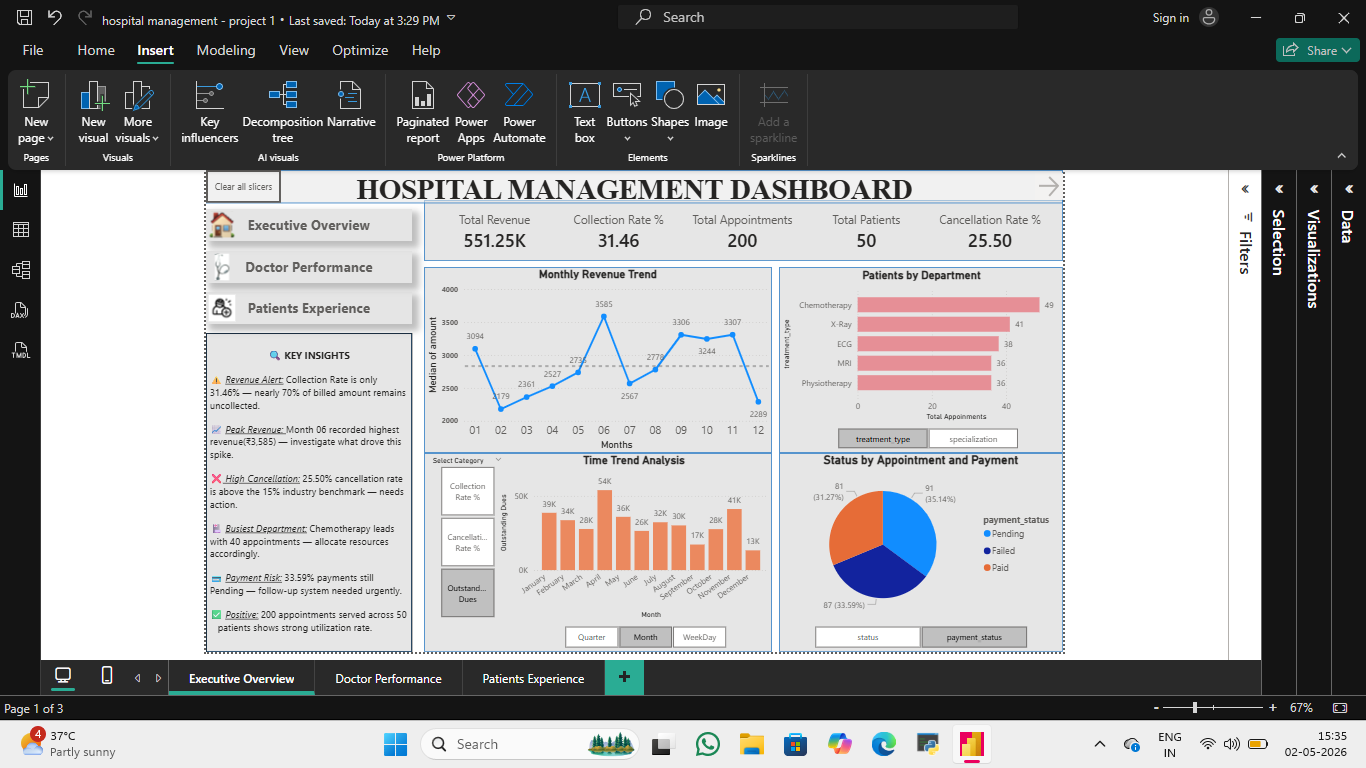

This screenshot's page, from the dashboard's own definition file:
{"tool":"powerbi","page":{"name":"Executive Overview","canvas":[1280,720],"ordinal":0},"visuals":[{"type":"group","id":"g1","title":"Background","box":[0,44.8,1280.2,675.2],"z":0},{"type":"shape","box":[325.6,44.8,954.5,91.1],"z":0,"group":"g1"},{"type":"shape","box":[0,0,1280,49.8],"z":500},{"type":"textbox","box":[0,0,1280,58.8],"z":1000},{"type":"shape","box":[325.6,144.9,519.8,277.8],"z":1000,"group":"g1"},{"type":"actionButton","box":[0,58.3,307.7,47.8],"z":2000},{"type":"shape","box":[855.9,144.9,424.2,277.8],"z":2000,"group":"g1"},{"type":"cardVisual","fields":{"Data":["_Measure.Total Revenue","_Measure.Collection Rate %","_Measure.Total Appointments","_Measure.Total Patients","_Measure.Cancellation Rate %"]},"box":[325.6,46.3,954.4,89.1],"z":3000},{"type":"shape","box":[325.6,422.7,519.8,297.3],"z":3000,"group":"g1"},{"type":"lineChart","title":"Monthly Revenue Trend","fields":{"Y":["Median(billing.amount)"],"Category":["DateTable.Months"]},"box":[325.6,144.9,519.8,277.8],"z":4000},{"type":"shape","box":[855.9,422.7,424.2,297.3],"z":4000,"group":"g1"},{"type":"shape","box":[0,243.5,307.7,476.5],"z":5000,"group":"g1"},{"type":"clusteredColumnChart","title":"Time Trend Analysis","fields":{"Y":["_Measure.Cancellation Rate %"],"Category":["DateTable.Quarter"]},"box":[435.2,423.2,409.5,251.9],"z":5000},{"type":"slicer","fields":{"Values":["Select Calender.Select Calender"]},"box":[510.9,675.2,289.8,44.8],"z":6000},{"type":"slicer","fields":{"Values":["Select Category 2.Select Category"]},"box":[325.6,423.2,128.5,251.9],"z":7000},{"type":"pieChart","title":"Status by Appointment and Payment","fields":{"Category":["appointments.status"],"Y":["_Measure.Total Appointments"]},"box":[855.9,422.7,424.2,252.4],"z":8000},{"type":"slicer","title":"Payment Status","fields":{"Values":["Select Status.Select Status"]},"box":[884.3,675.2,366,44.8],"z":9000},{"type":"slicer","fields":{"Values":["Select Type.Select Type"]},"box":[918.7,379.4,318.2,43.3],"z":10000},{"type":"clusteredBarChart","title":"Patients by Department","fields":{"Category":["treatments.treatment_type"],"Y":["CountNonNull(treatments.appointment_id)"]},"box":[856.8,145.6,423.2,233],"z":11000},{"type":"actionButton","box":[0,121,307.7,47.8],"z":12000},{"type":"actionButton","box":[0,182.2,307.7,47.8],"z":13000},{"type":"actionButton","box":[0,0,112,49.3],"z":14000},{"type":"actionButton","box":[1238.3,4.5,41.8,40.3],"z":15000},{"type":"textbox","box":[0,243.5,307.7,476.5],"z":16000}]}

Visuals, with their boxes on the page's 1280x720 design canvas (x1, y1, x2, y2). These are canvas units, not pixel positions in the 1366x768 screenshot, which may show the page scaled, cropped or inside an application window:
"Background" group: 0, 45, 1280, 720
shape: 326, 45, 1280, 136
shape: 0, 0, 1280, 50
textbox: 0, 0, 1280, 59
shape: 326, 145, 845, 423
actionButton: 0, 58, 308, 106
shape: 856, 145, 1280, 423
cardVisual - _Measure.Total Revenue x _Measure.Collection Rate %: 326, 46, 1280, 135
shape: 326, 423, 845, 720
"Monthly Revenue Trend" lineChart: 326, 145, 845, 423
shape: 856, 423, 1280, 720
shape: 0, 244, 308, 720
"Time Trend Analysis" clusteredColumnChart: 435, 423, 845, 675
slicer - Select Calender.Select Calender: 511, 675, 801, 720
slicer - Select Category 2.Select Category: 326, 423, 454, 675
"Status by Appointment and Payment" pieChart: 856, 423, 1280, 675
"Payment Status" slicer: 884, 675, 1250, 720
slicer - Select Type.Select Type: 919, 379, 1237, 423
"Patients by Department" clusteredBarChart: 857, 146, 1280, 379
actionButton: 0, 121, 308, 169
actionButton: 0, 182, 308, 230
actionButton: 0, 0, 112, 49
actionButton: 1238, 4, 1280, 45
textbox: 0, 244, 308, 720
